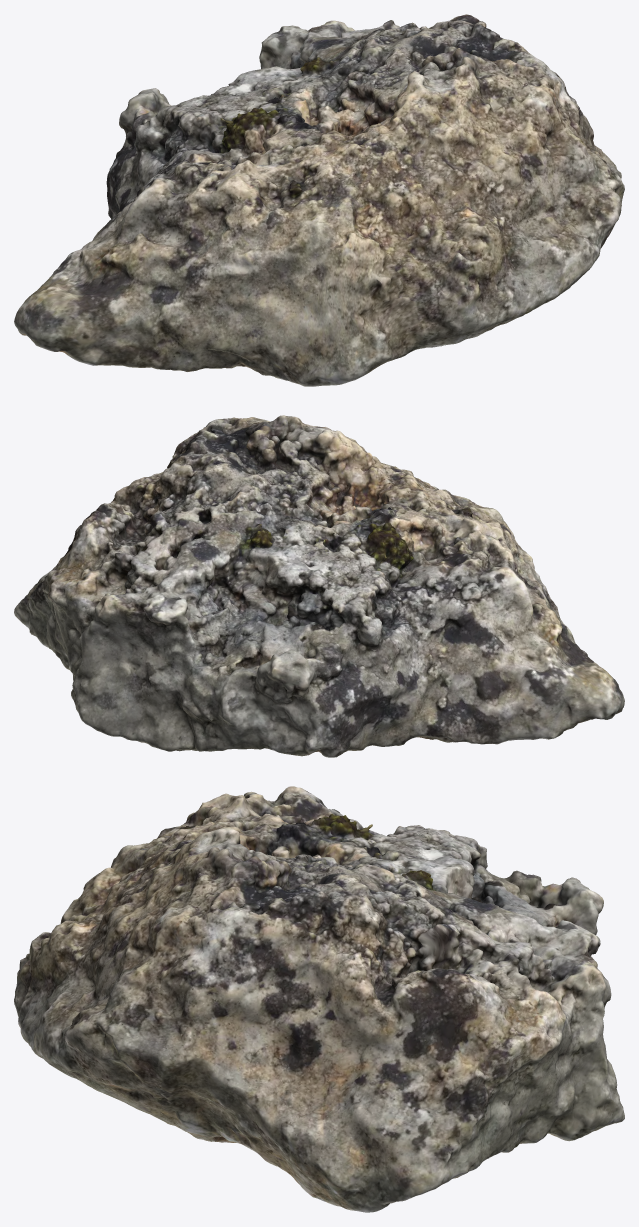
Rendered from stone2-transformed.glb.
The picture shows the model from 3 angles, top to bottom: view 1: azimuth 30°, elevation 25°; view 2: azimuth 150°, elevation 25°; view 3: azimuth 270°, elevation 25°; orthographic projection. The views are drawn at different scales.
Parts seen in each view (by area): view 1: sutr36_100k; view 2: sutr36_100k; view 3: sutr36_100k.
Part boxes in pixels (box(x1,y1,x2,y2)): sutr36_100k: box(14, 14, 624, 386); sutr36_100k: box(14, 415, 624, 757); sutr36_100k: box(14, 786, 624, 1212).
Size of the model in its own units: 0.239 by 0.0946 by 0.1827.
1 material, 1 textured.
